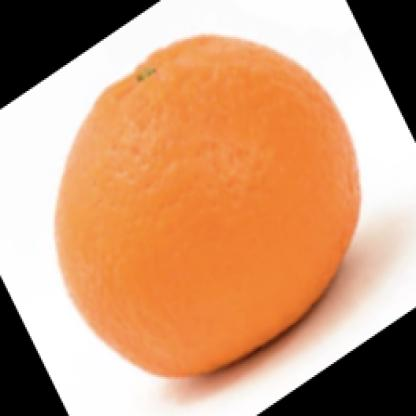fresh: (55, 32, 364, 379)
